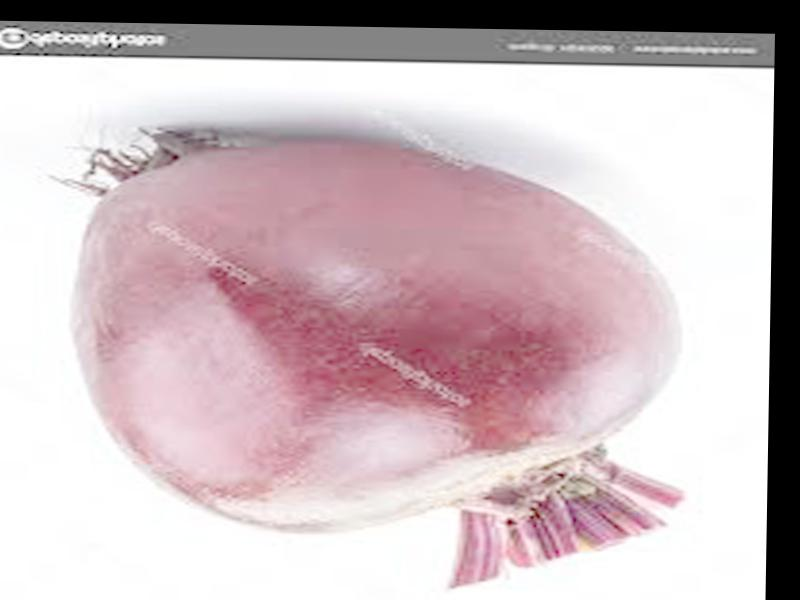Beet: (69, 133, 685, 586)
